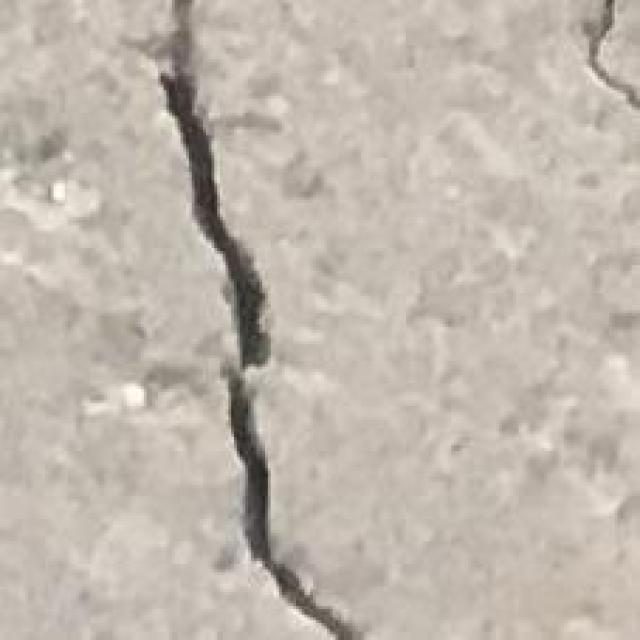Crack: (146, 0, 377, 640), (583, 0, 640, 129)
